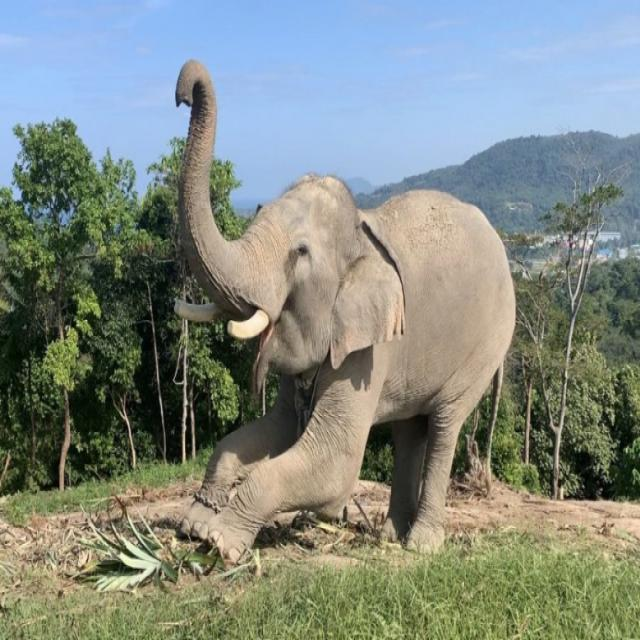Elephant: (163, 52, 520, 558)
